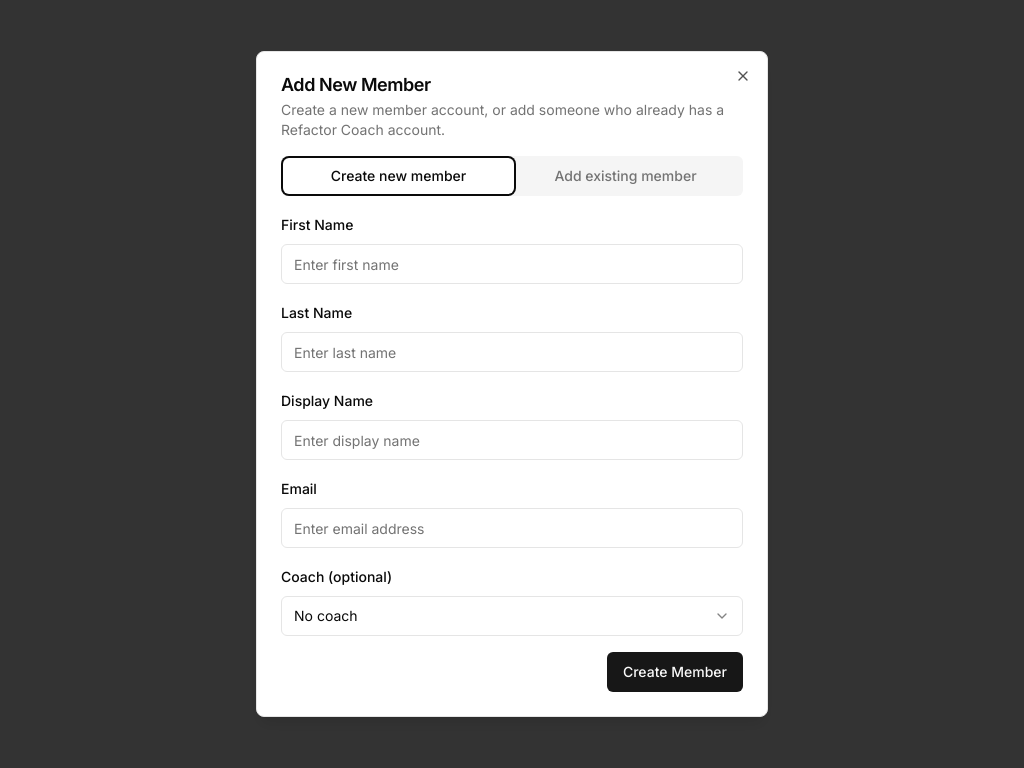
Scenario: AddMemberDialog – attaching an existing member › reports an existing member at lookup time instead of on submit
Click the tab "Add existing member" at (626, 176), box [512,160,739,192]
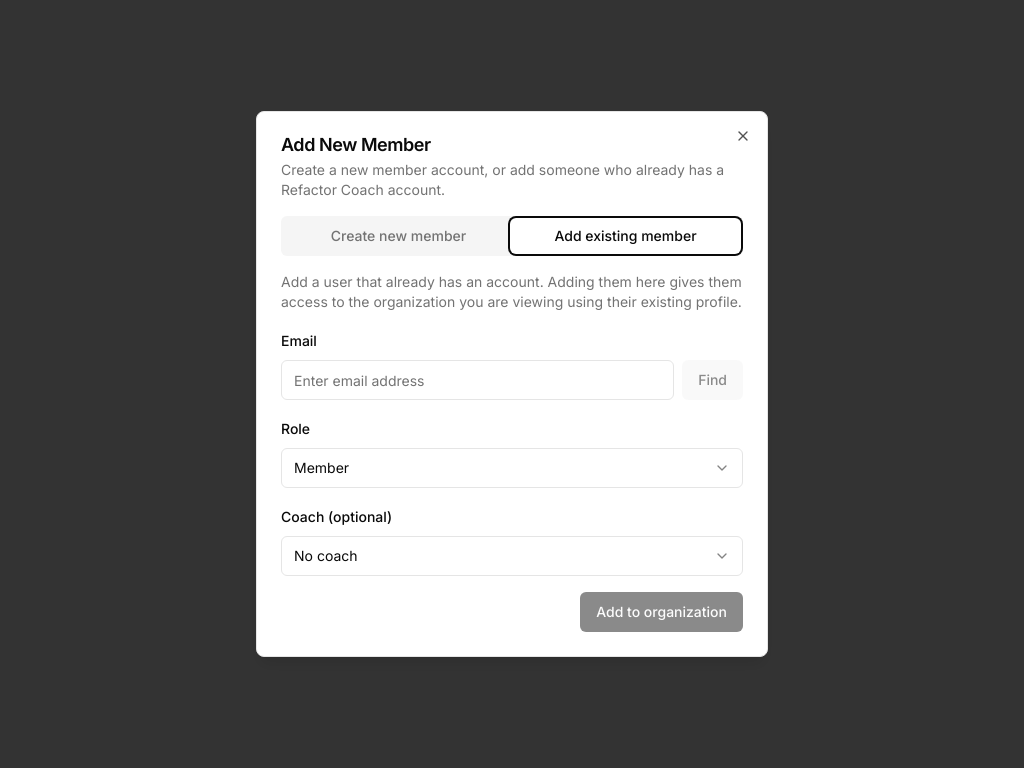
Type "ada@example.com" into the field labelled "Email" at (478, 380), box [281,360,674,400]
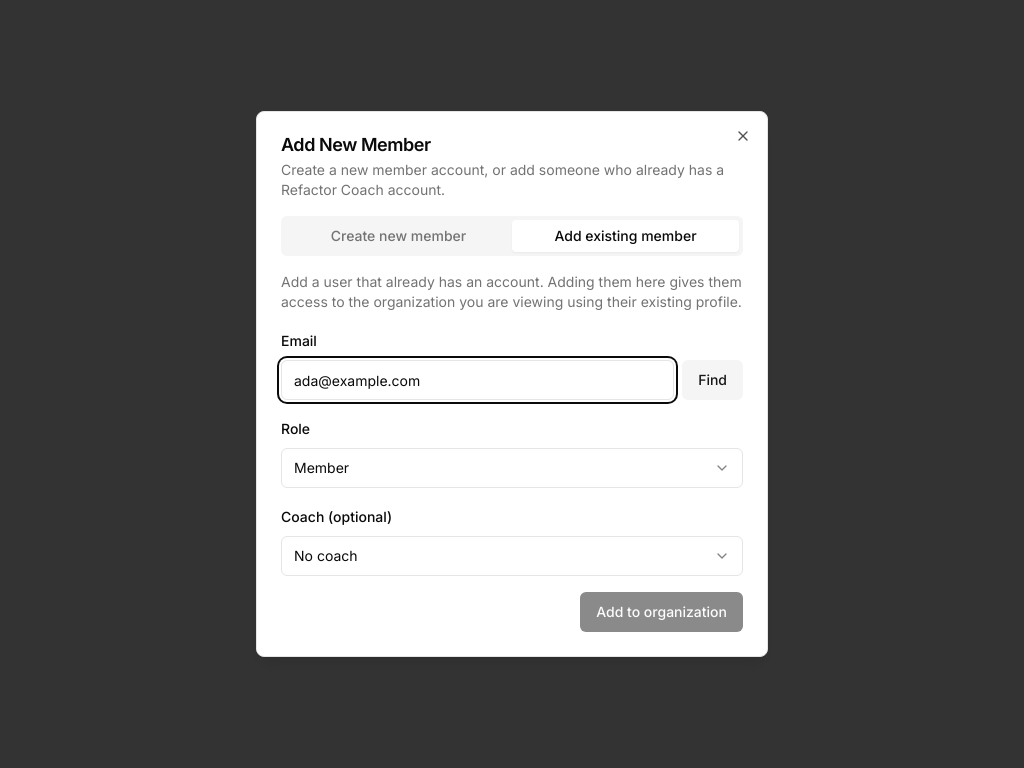
Click the button "Find" at (713, 380), box [682,360,743,400]
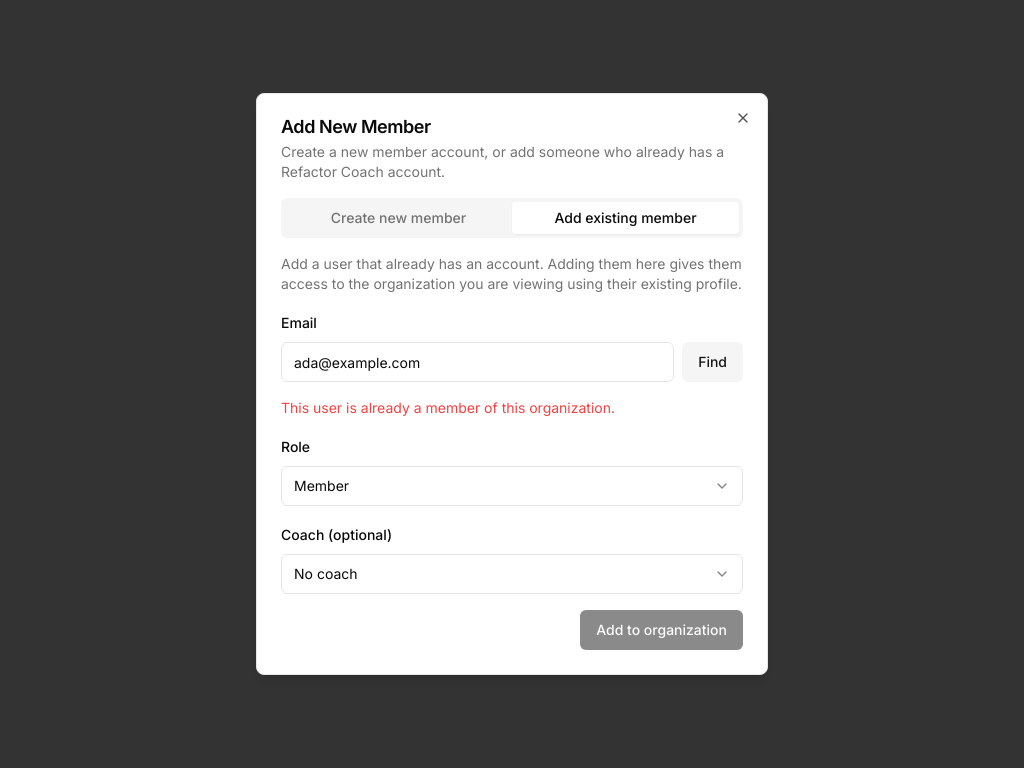
Result: the button "Add to organization" is disabled at [580,610,743,650]
Result: the text "This user is already a member of this organization." is shown at [281,399,615,416]
